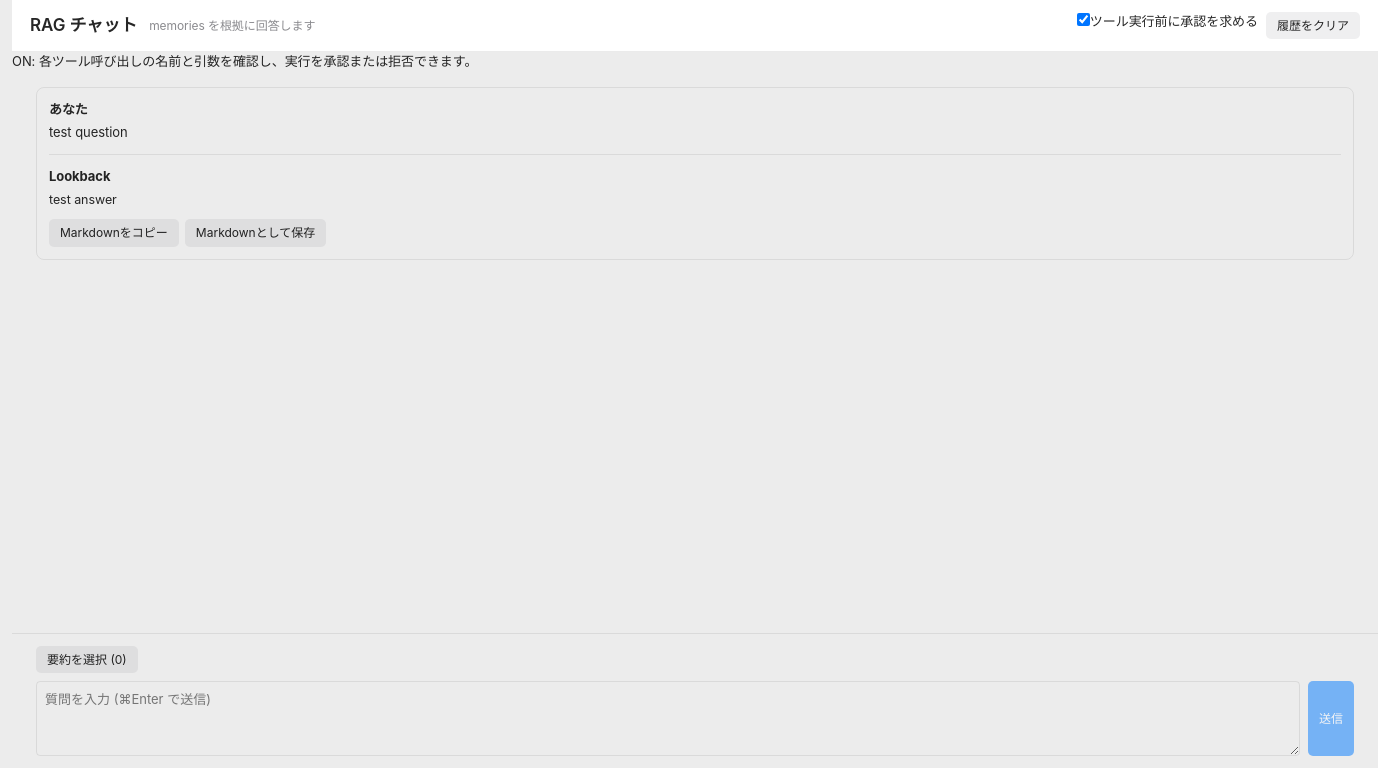
Test: Chat selected memory display › reports a successful Markdown copy on the same turn
The width and height of the screenshot is (1378, 768).
Click the button "Markdownをコピー" at (114, 233), box [49,219,179,246]
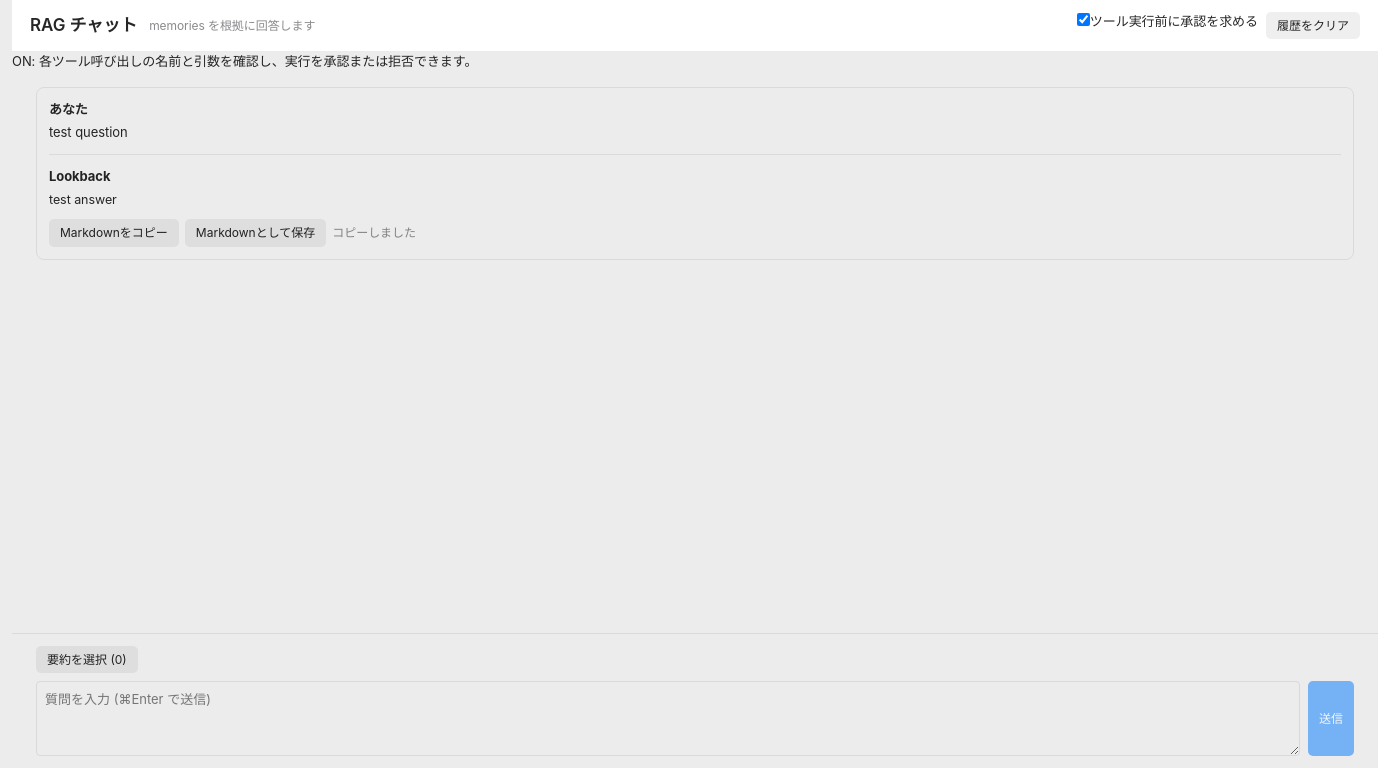
Expected: the message reads "コピーしました", [332,225,416,240]
